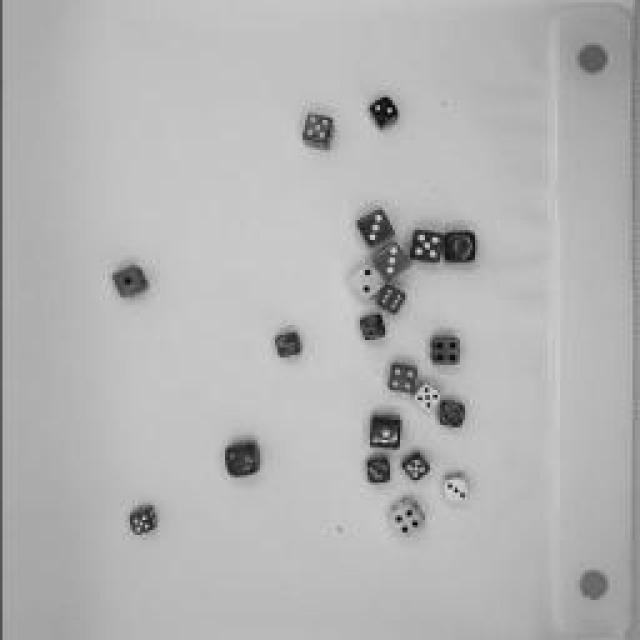dice_1: (439, 226, 479, 266), (366, 411, 404, 451), (110, 264, 150, 298)
dice_2: (345, 260, 390, 305), (221, 440, 261, 480), (366, 94, 399, 131), (436, 395, 466, 430), (273, 329, 305, 361)
dice_3: (352, 206, 398, 249), (368, 240, 412, 282), (440, 470, 470, 505), (364, 455, 391, 485)
dice_4: (386, 495, 429, 540), (385, 360, 420, 395), (429, 334, 461, 366), (356, 311, 386, 344)
dice_5: (298, 108, 338, 152), (406, 226, 446, 269), (410, 376, 445, 416), (398, 446, 432, 484), (128, 502, 158, 536)
dice_6: (375, 282, 410, 318)
